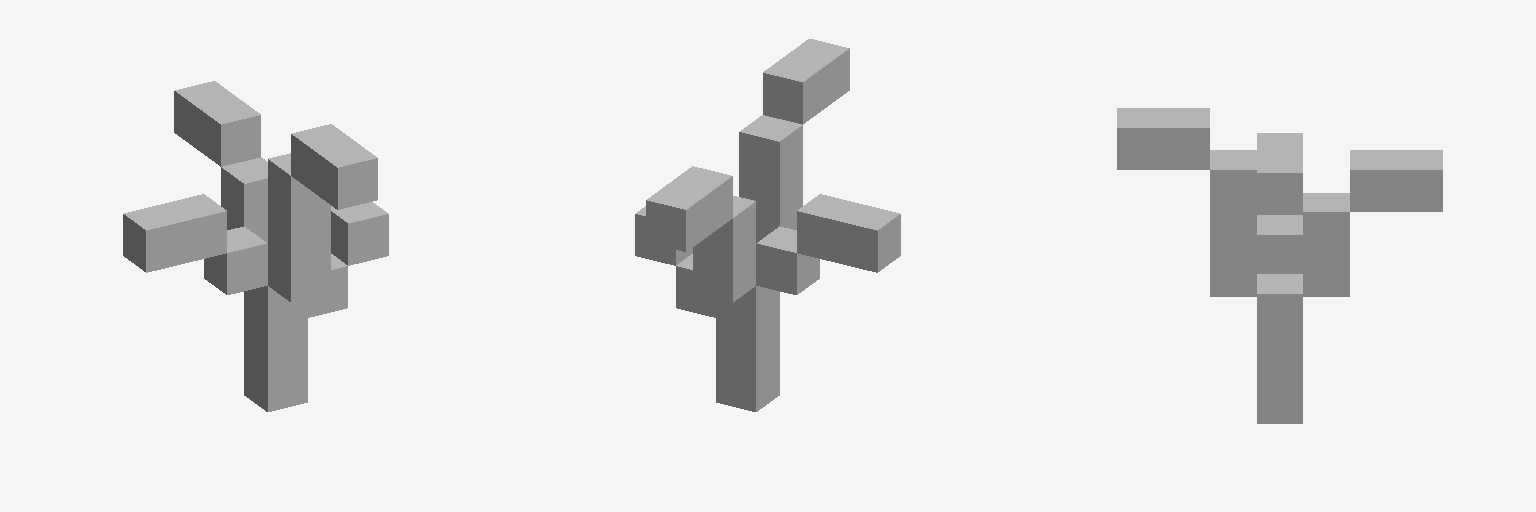
The model's file is deadShrub2-0.obj.
3 renders of one model, left to right at view 1: azimuth 30°, elevation 25°; view 2: azimuth 150°, elevation 25°; view 3: azimuth 270°, elevation 25°, orthographic.
Parts seen in each view (by area): view 1: object 1; view 2: object 1; view 3: object 1.
Boxes of the visible parts, x1,y1,x2,y2 form: object 1: [123, 81, 388, 411]; object 1: [635, 39, 900, 411]; object 1: [1117, 108, 1442, 423].
Size of the model in its own units: 0.6 by 0.7 by 0.7.